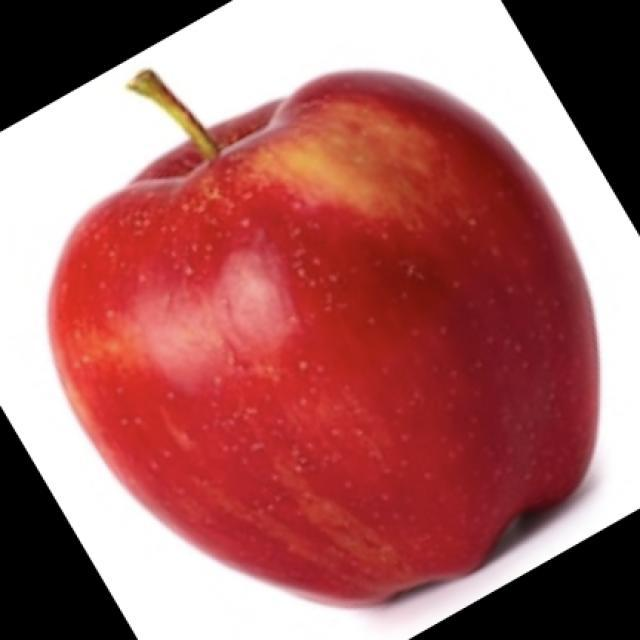Fresh Apple: (46, 71, 610, 610)
